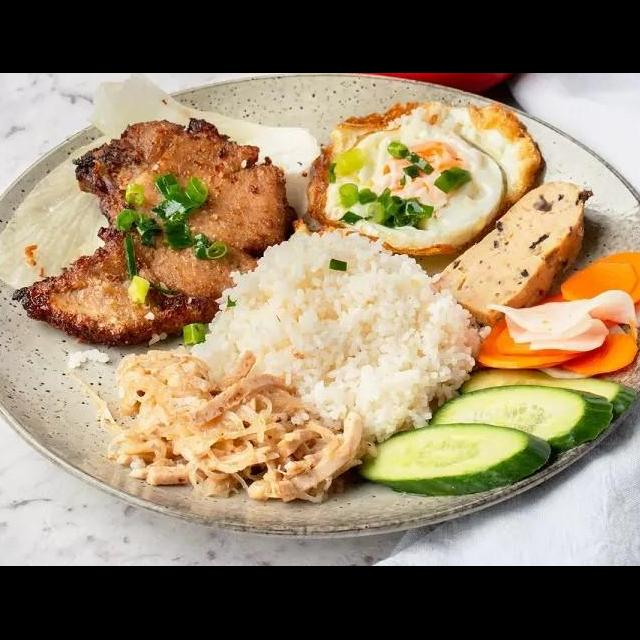bi: (93, 343, 380, 508)
cha: (425, 177, 596, 331)
com: (182, 226, 495, 448)
com suon bi cha trung: (0, 104, 640, 566)
dua chua: (474, 246, 640, 383)
suon: (7, 116, 302, 357)
trung: (299, 98, 550, 258)
